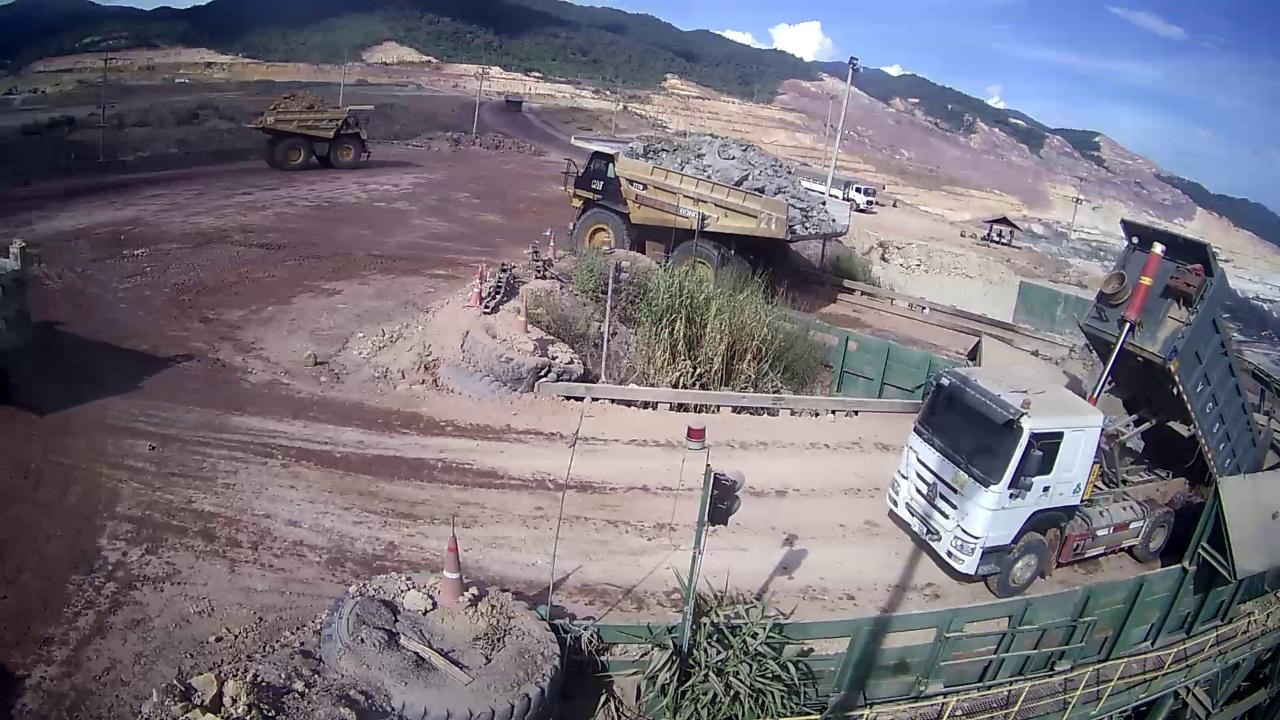company: (633, 194, 718, 224)
full_load: (661, 127, 813, 192)
mining_truck: (558, 117, 853, 286)
tail_number: (757, 207, 782, 233)
truck_size: (624, 177, 651, 196)
